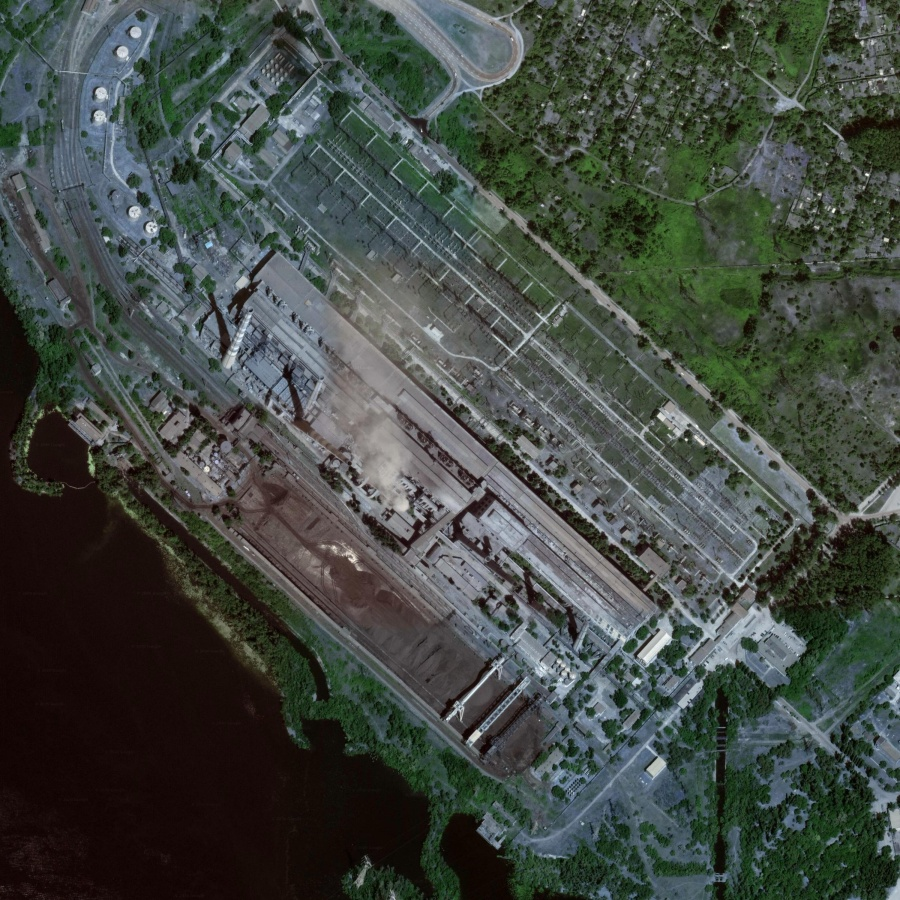PowerPlant: (178, 278, 611, 777)
